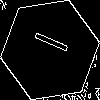I: (25, 25, 69, 55)
